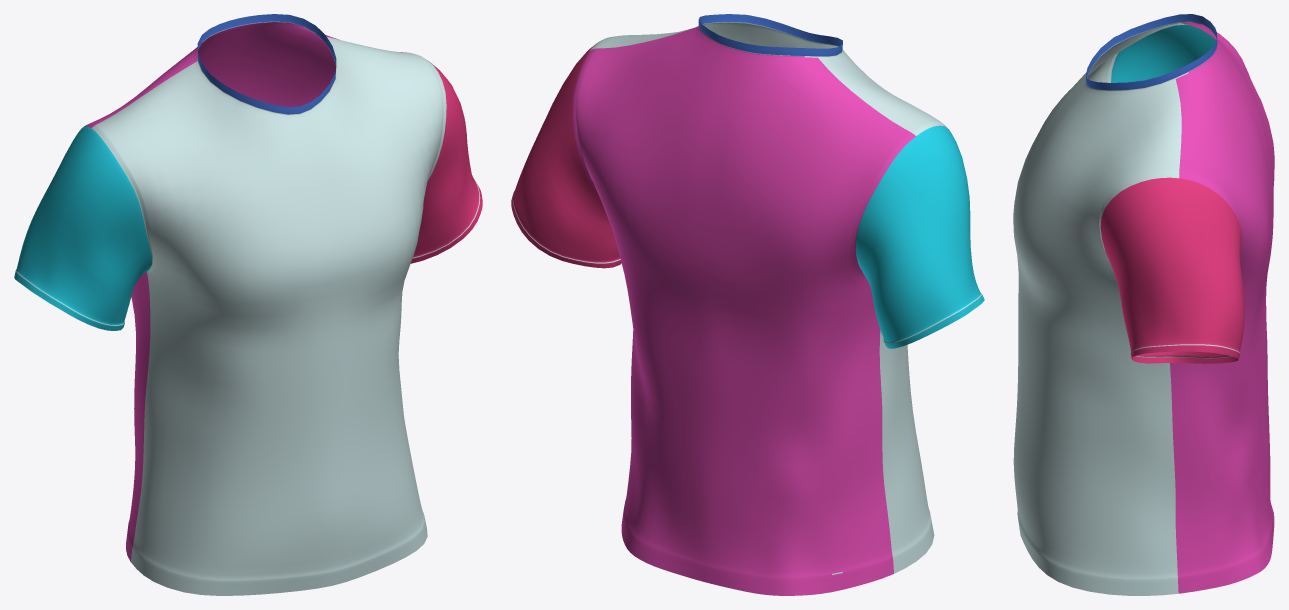
File: t-shirt-f-b.gltf
The picture shows the model from 3 angles, left to right: view 1: azimuth 30°, elevation 25°; view 2: azimuth 150°, elevation 25°; view 3: azimuth 270°, elevation 25°; orthographic projection. The views are drawn at different scales.
Parts seen in each view (by area): view 1: Plane_Plane.008; view 2: Plane_Plane.008; view 3: Plane_Plane.008.
Boxes of the visible parts, x1=… form: Plane_Plane.008: x1=14, y1=14, x2=482, y2=595; Plane_Plane.008: x1=511, y1=14, x2=984, y2=595; Plane_Plane.008: x1=1013, y1=14, x2=1274, y2=595.
Size of the model in its own units: 1.01 by 1.09 by 0.5179.
